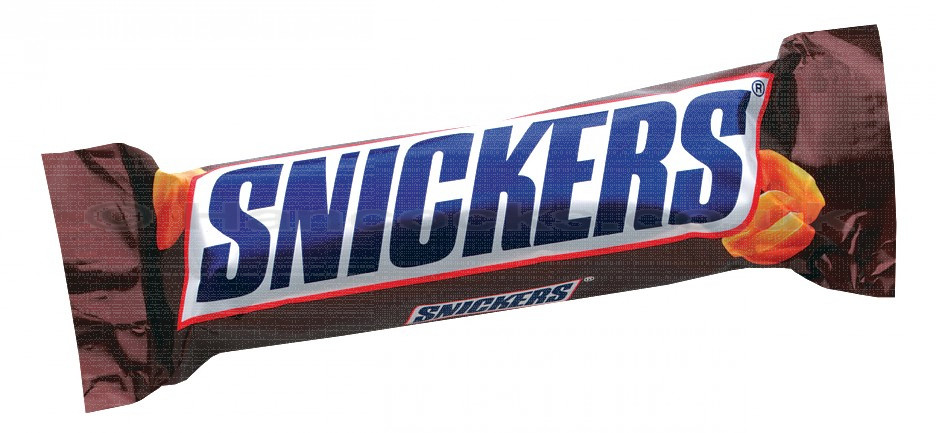snickers: (191, 88, 751, 304), (416, 280, 573, 318)
